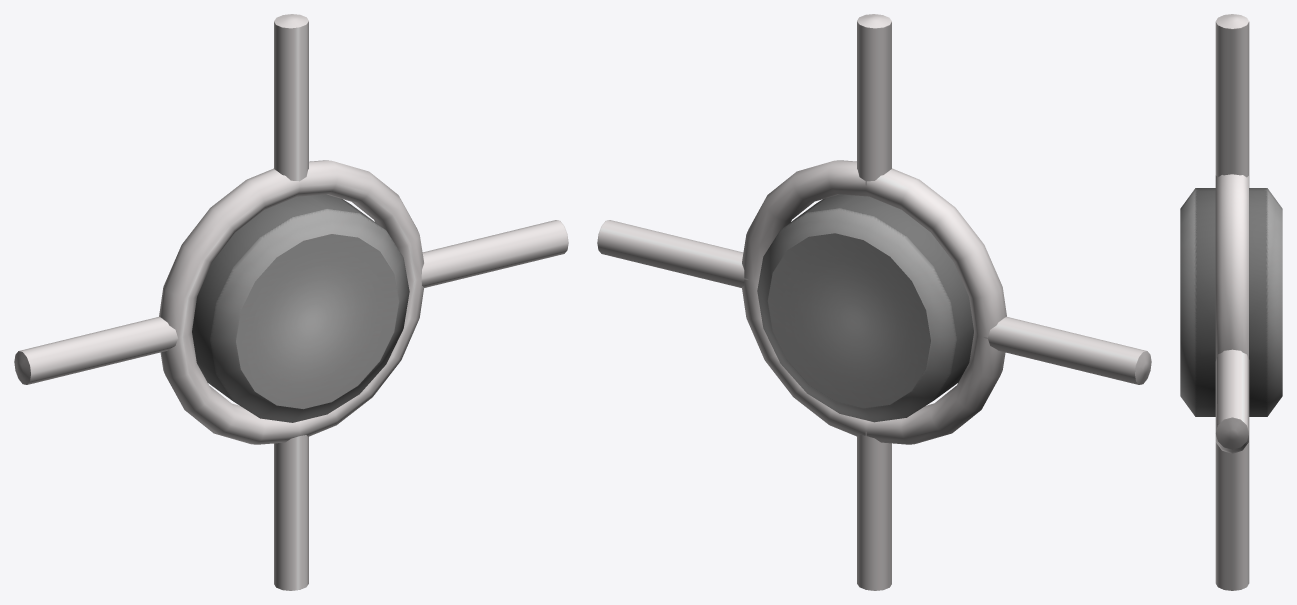
Rendered from ELM_Rotate.fbx.
3 renders of one model, left to right at view 1: azimuth 30°, elevation 25°; view 2: azimuth 150°, elevation 25°; view 3: azimuth 270°, elevation 25°, orthographic.
Parts seen in each view (by area): view 1: Rotate_Object, Rotate_Center; view 2: Rotate_Object, Rotate_Center; view 3: Rotate_Object, Rotate_Center.
Boxes of the visible parts, x1=… form: Rotate_Object: x1=14, y1=14, x2=568, y2=590; Rotate_Center: x1=192, y1=194, x2=409, y2=422; Rotate_Object: x1=597, y1=14, x2=1151, y2=590; Rotate_Center: x1=757, y1=194, x2=973, y2=422; Rotate_Object: x1=1215, y1=14, x2=1249, y2=590; Rotate_Center: x1=1180, y1=188, x2=1282, y2=416.
Bounding box in the file's own units: 3.87 × 3.87 × 0.6294.
